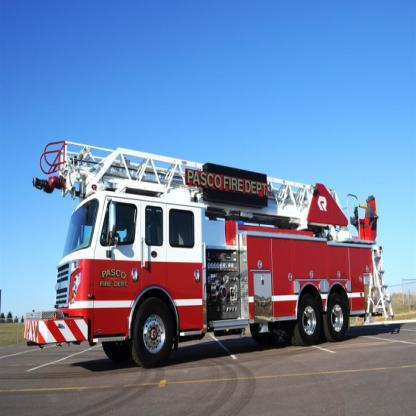fire-truck: (8, 102, 401, 416)
